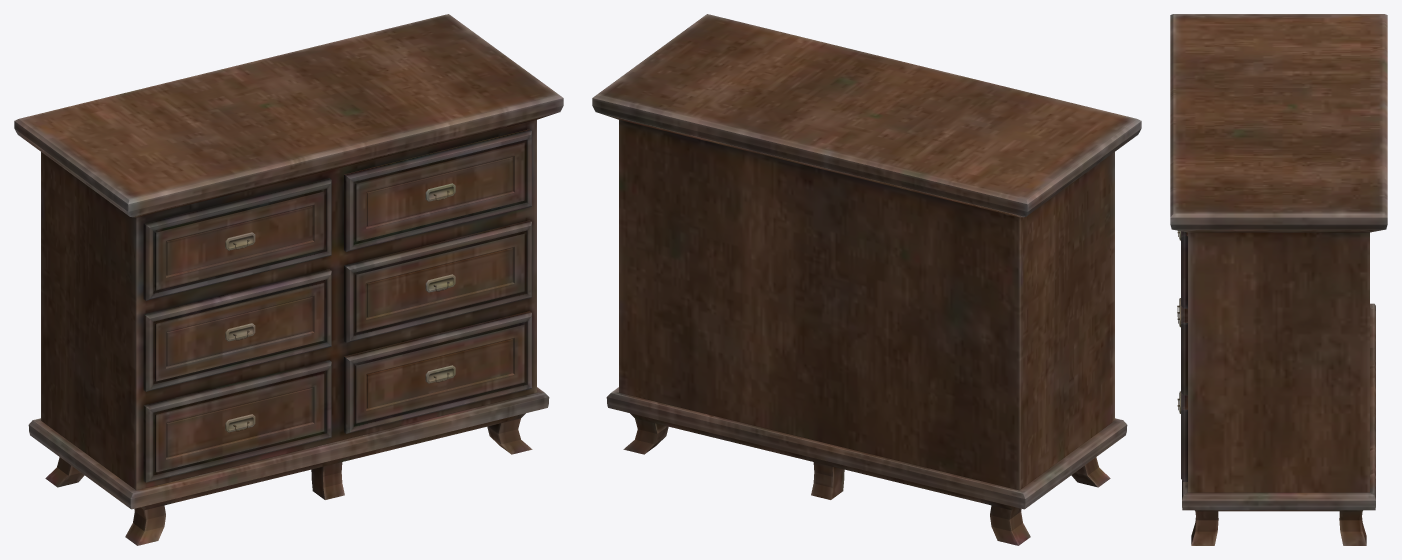
The model's file is s_comoda.glb.
3 renders of one model, left to right at view 1: azimuth 30°, elevation 25°; view 2: azimuth 150°, elevation 25°; view 3: azimuth 270°, elevation 25°, orthographic. The views are drawn at different scales.
Parts seen in each view (by area): view 1: komode2_0; view 2: komode2_0; view 3: komode2_0.
Part boxes in pixels (bbox=[...]): komode2_0: bbox=[14, 14, 563, 545]; komode2_0: bbox=[592, 14, 1141, 545]; komode2_0: bbox=[1170, 14, 1387, 545].
Bounding box in the file's own units: 1.15 × 0.9 × 0.5207.
1 material, 1 textured.
